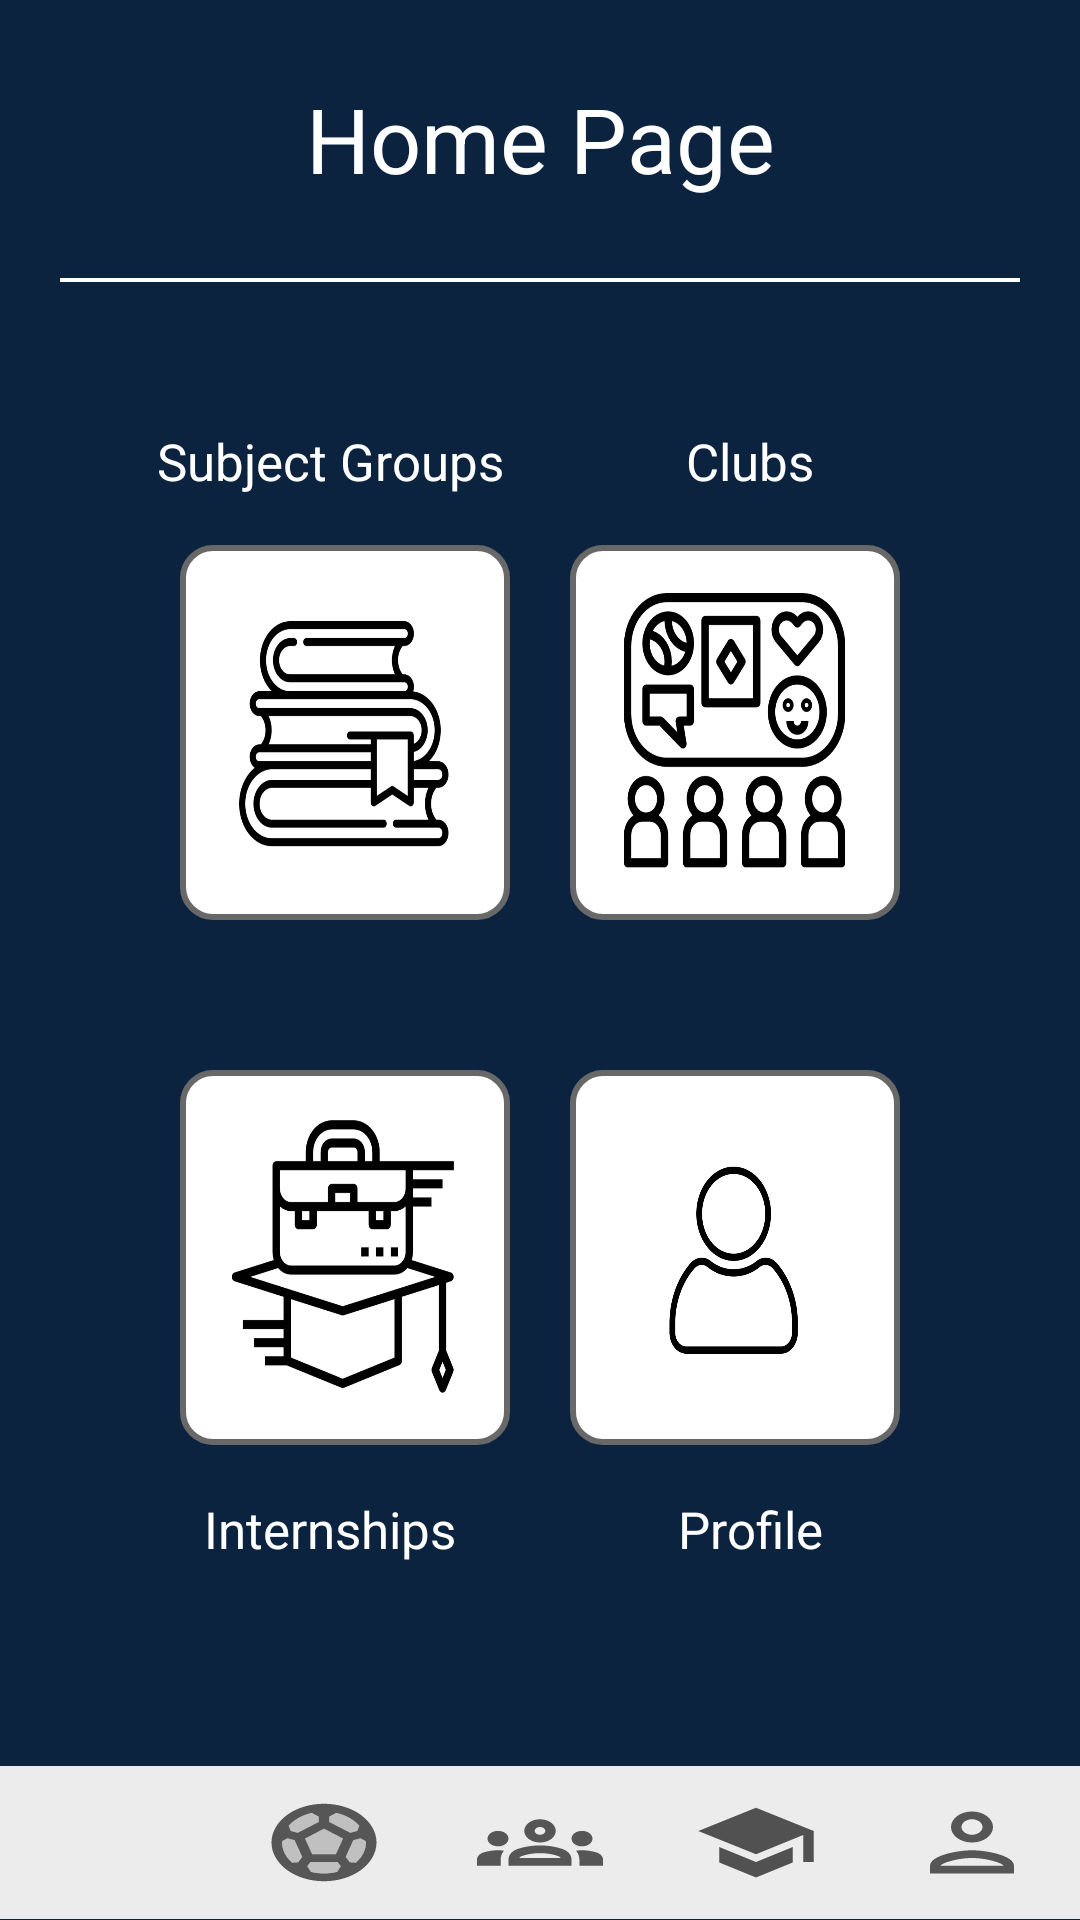

Point at icon controls on the screen. Image size 1080w x 1920h, points as point (x, y).
groups: point (540, 1842)
person: point (972, 1842)
school: point (756, 1843)
sports soccer: point (324, 1842)
